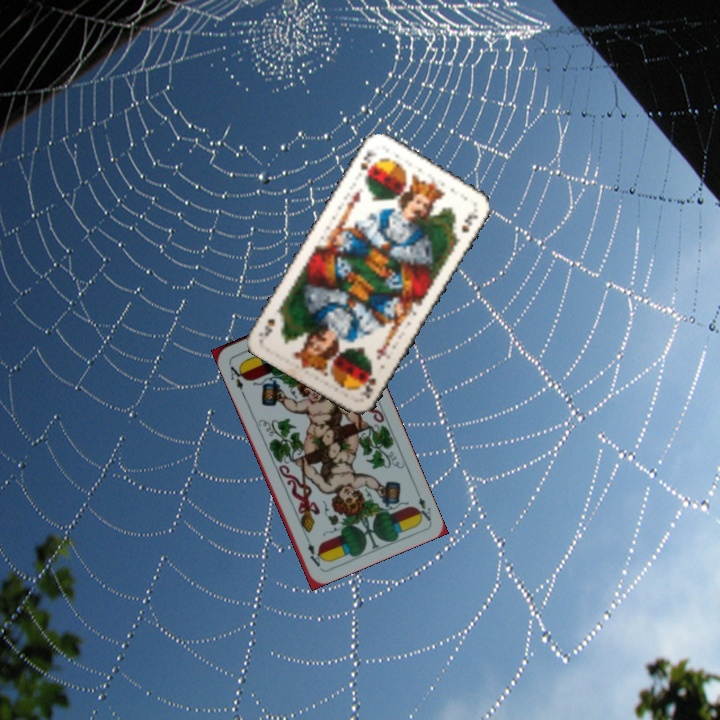EA: (224, 358, 248, 397), (411, 485, 434, 524)
SK: (357, 367, 379, 402), (356, 148, 378, 181)
